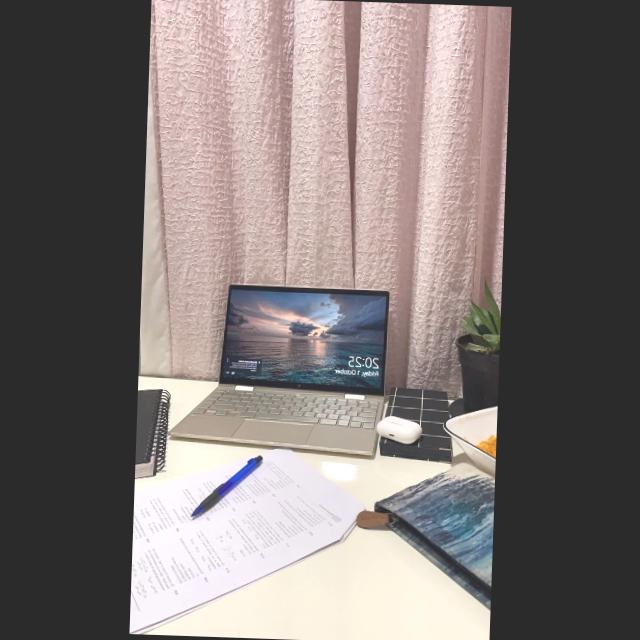laptop: (170, 284, 389, 454)
